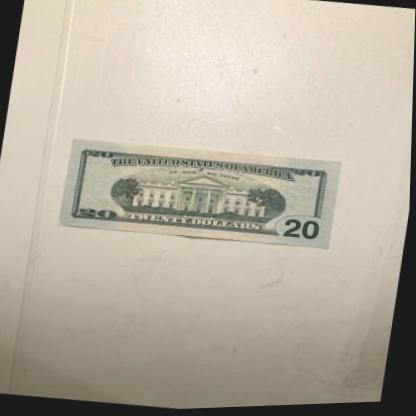twenty-back: (55, 129, 345, 260)
